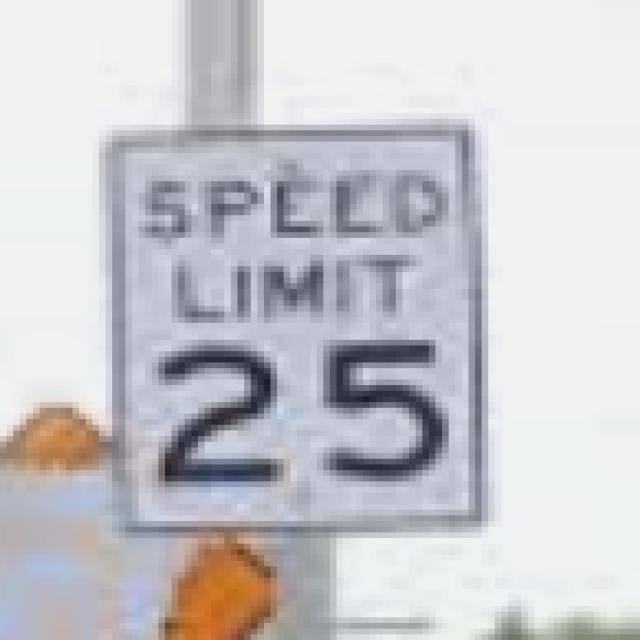speedLimit25: (104, 128, 494, 532)
